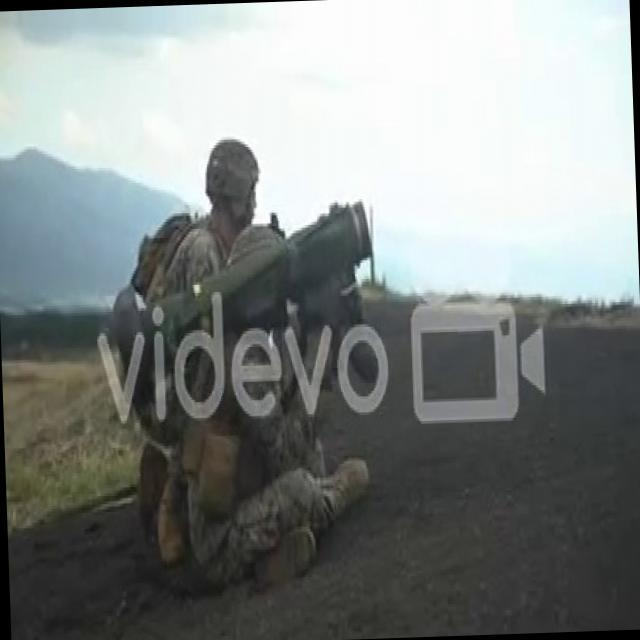rocket: (108, 197, 378, 400)
